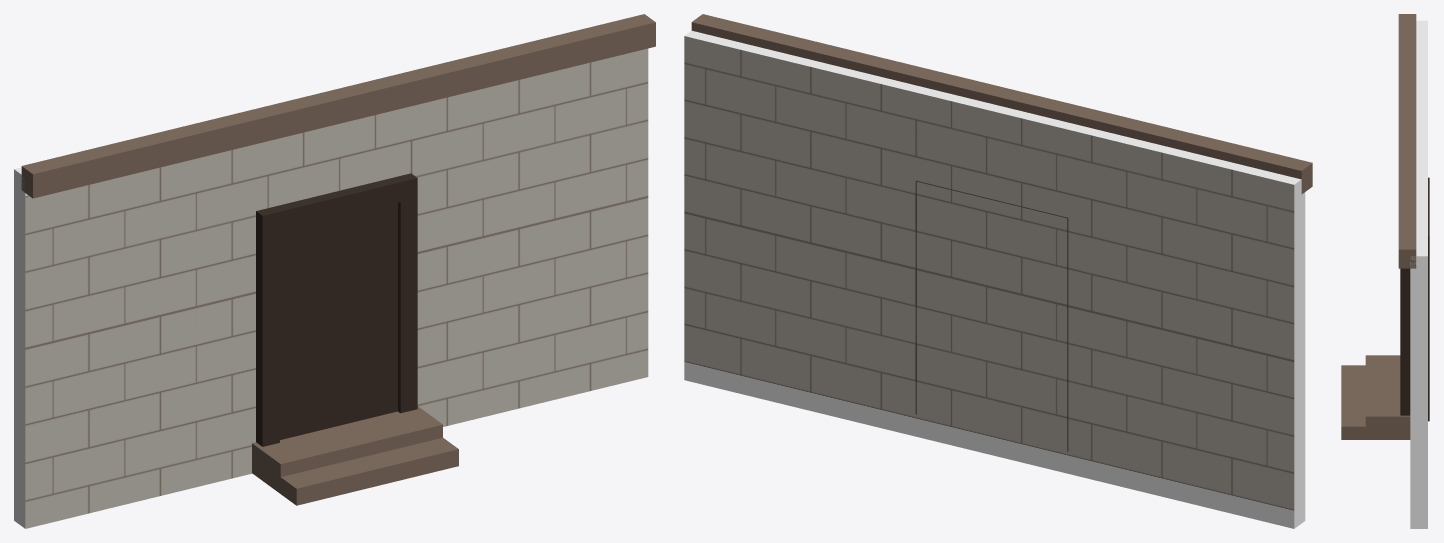
Rendered from buildingDoor.fbx.
The picture shows the model from 3 angles, left to right: view 1: azimuth 30°, elevation 25°; view 2: azimuth 150°, elevation 25°; view 3: azimuth 270°, elevation 25°; orthographic projection. The views are drawn at different scales.
Parts seen in each view (by area): view 1: polySurface682; view 2: polySurface682; view 3: polySurface682.
Boxes of the visible parts, x1=… form: polySurface682: x1=14, y1=14, x2=655, y2=528; polySurface682: x1=684, y1=14, x2=1312, y2=528; polySurface682: x1=1341, y1=14, x2=1429, y2=528.
Size of the model in its own units: 683 by 377 by 108.
3 materials, 1 textured.
